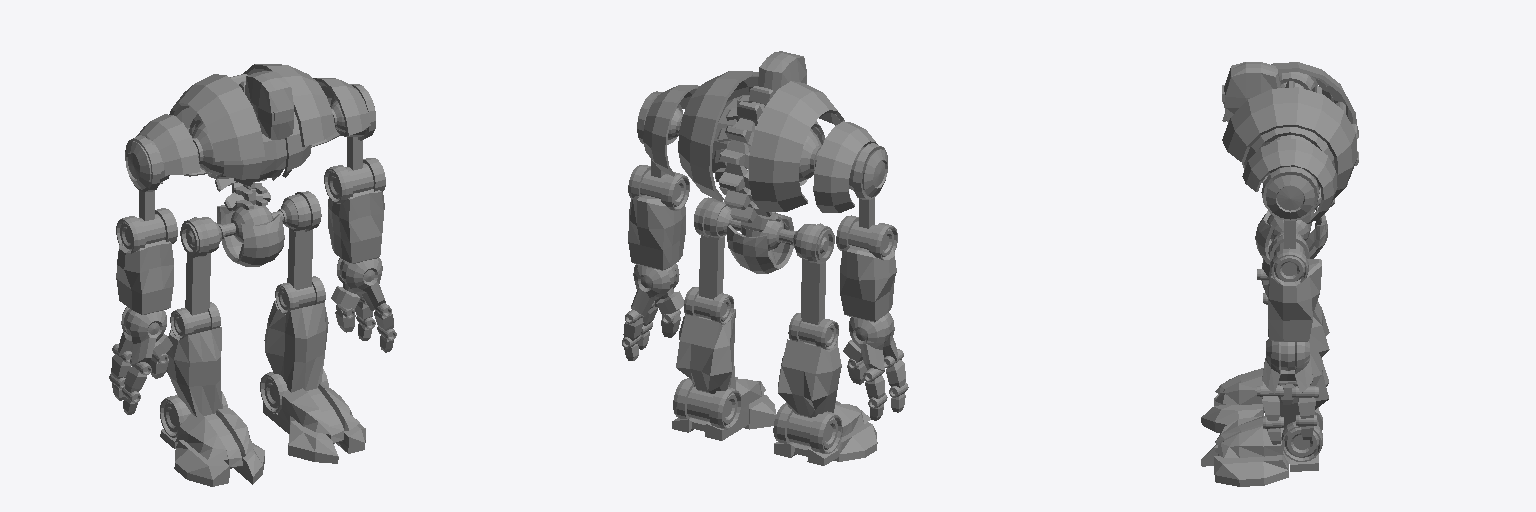
The model's file is game.unity_77.obj.
The picture shows the model from 3 angles: view 1: azimuth 30°, elevation 25°; view 2: azimuth 150°, elevation 25°; view 3: azimuth 270°, elevation 25°; orthographic projection.
Parts seen in each view (by area): view 1: Torso_Shoulder_004, R_Leg_008, R_Leg_005, R_Hand_003, R_Hand_007, R_Leg_006 1, R_Leg_014, Torso_Shoulder_003, Head, Sphere001, R_Leg_007 1, Torso_Shoulder_005 (+22 smaller); view 2: Torso_Shoulder_004, Torso_Shoulder_003, R_Leg_005, R_Leg_008, R_Hand_007, R_Hand_003, Torso_Shoulder_005, R_Leg_006, R_Leg_007, Torso_Shoulder_006, Sphere001, R_Hand_006 (+23 smaller); view 3: Torso_Shoulder_003, R_Hand_007, Torso_Shoulder_006, R_Hand_008, R_Leg_014, R_Leg_015, Head, R_Hand_006, R_Leg_007, R_Leg_006 1, Sphere001, R_Leg_007 1 (+7 smaller).
Part boxes in pixels (left/top/right/bottom): Torso_Shoulder_004: left=169, top=74, right=264, bottom=176; R_Leg_008: left=264, top=300, right=328, bottom=392; R_Leg_005: left=166, top=327, right=222, bottom=416; R_Hand_003: left=116, top=240, right=173, bottom=314; R_Hand_007: left=328, top=189, right=384, bottom=263; R_Leg_006 1: left=160, top=407, right=253, bottom=468; R_Leg_014: left=263, top=384, right=359, bottom=443; Torso_Shoulder_003: left=243, top=64, right=335, bottom=146; Head: left=245, top=71, right=293, bottom=139; Sphere001: left=217, top=205, right=284, bottom=266; R_Leg_007 1: left=174, top=440, right=264, bottom=486; Torso_Shoulder_005: left=136, top=114, right=200, bottom=184; Torso_Shoulder_004: left=748, top=81, right=844, bottom=211; Torso_Shoulder_003: left=678, top=71, right=758, bottom=201; R_Leg_005: left=778, top=339, right=841, bottom=417; R_Leg_008: left=676, top=309, right=735, bottom=393; R_Hand_007: left=628, top=195, right=685, bottom=270; R_Hand_003: left=840, top=245, right=896, bottom=322; Torso_Shoulder_005: left=813, top=121, right=877, bottom=212; R_Leg_006: left=773, top=403, right=841, bottom=453; R_Leg_007: left=673, top=378, right=741, bottom=429; Torso_Shoulder_006: left=643, top=85, right=698, bottom=176; Sphere001: left=727, top=213, right=793, bottom=273; R_Hand_006: left=628, top=165, right=689, bottom=210; Torso_Shoulder_003: left=1222, top=87, right=1357, bottom=202; R_Hand_007: left=1268, top=259, right=1321, bottom=341; Torso_Shoulder_006: left=1242, top=139, right=1337, bottom=221; R_Hand_008: left=1261, top=166, right=1319, bottom=220; R_Leg_014: left=1215, top=416, right=1318, bottom=471; R_Leg_015: left=1201, top=444, right=1288, bottom=486; Head: left=1223, top=62, right=1281, bottom=122; R_Hand_006: left=1271, top=234, right=1308, bottom=283; R_Leg_007: left=1282, top=409, right=1322, bottom=461; R_Leg_006 1: left=1215, top=368, right=1318, bottom=415; Sphere001: left=1255, top=207, right=1327, bottom=264; R_Leg_007 1: left=1201, top=394, right=1264, bottom=433.
Size of the model in its own units: 4.19 by 5.71 by 2.15.